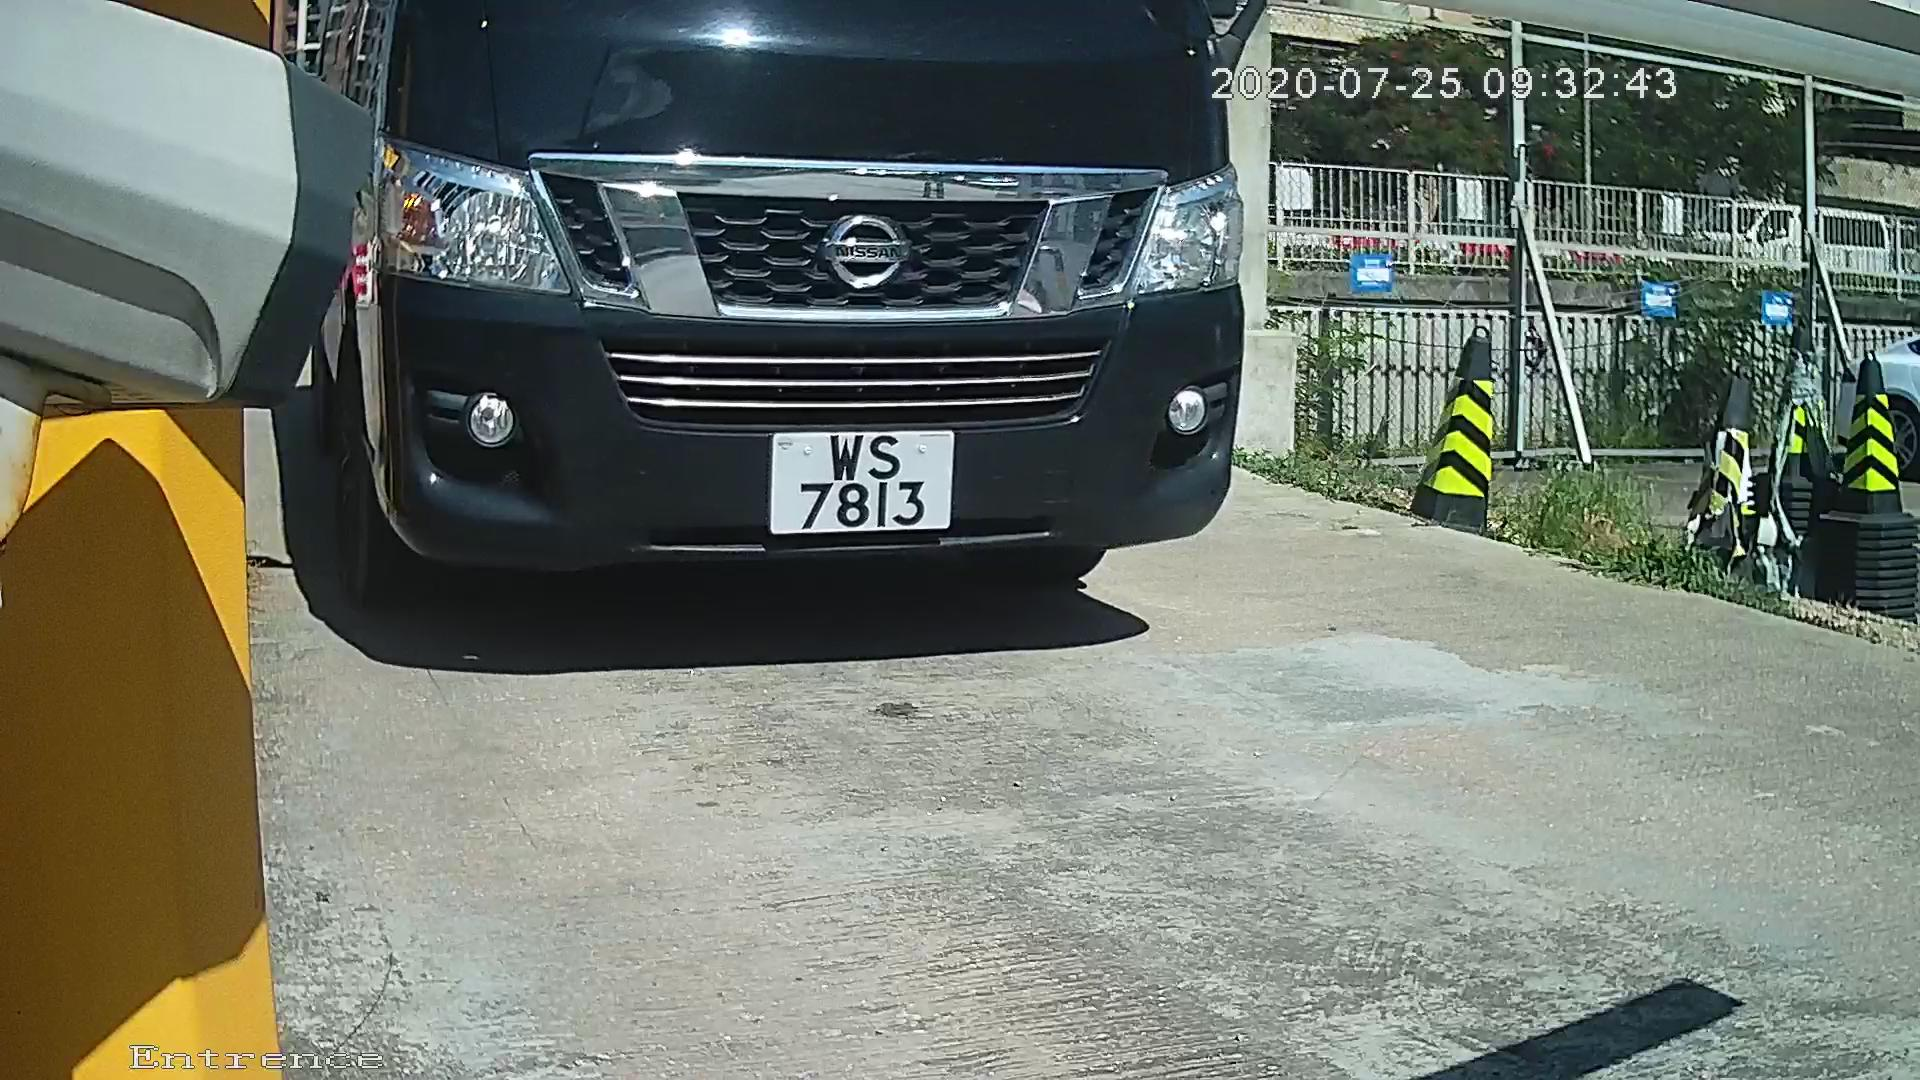Car: (18, 10, 1406, 704)
License Plate: (746, 420, 969, 545)
